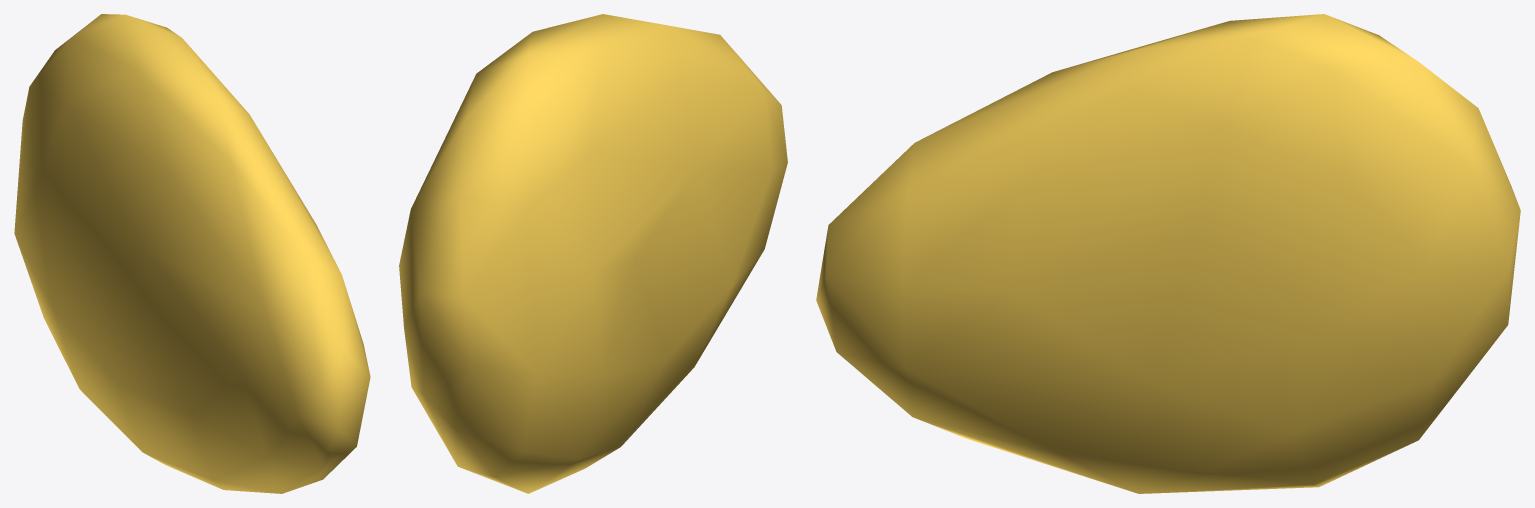
File: fitted.glb
3 views of the same model, side by side, from view 1: azimuth 30°, elevation 25°; view 2: azimuth 150°, elevation 25°; view 3: azimuth 270°, elevation 25° (orthographic). The views are drawn at different scales.
Bounding box in the file's own units: 0.4223 × 1.01 × 1.34.
1 material, 1 textured.
